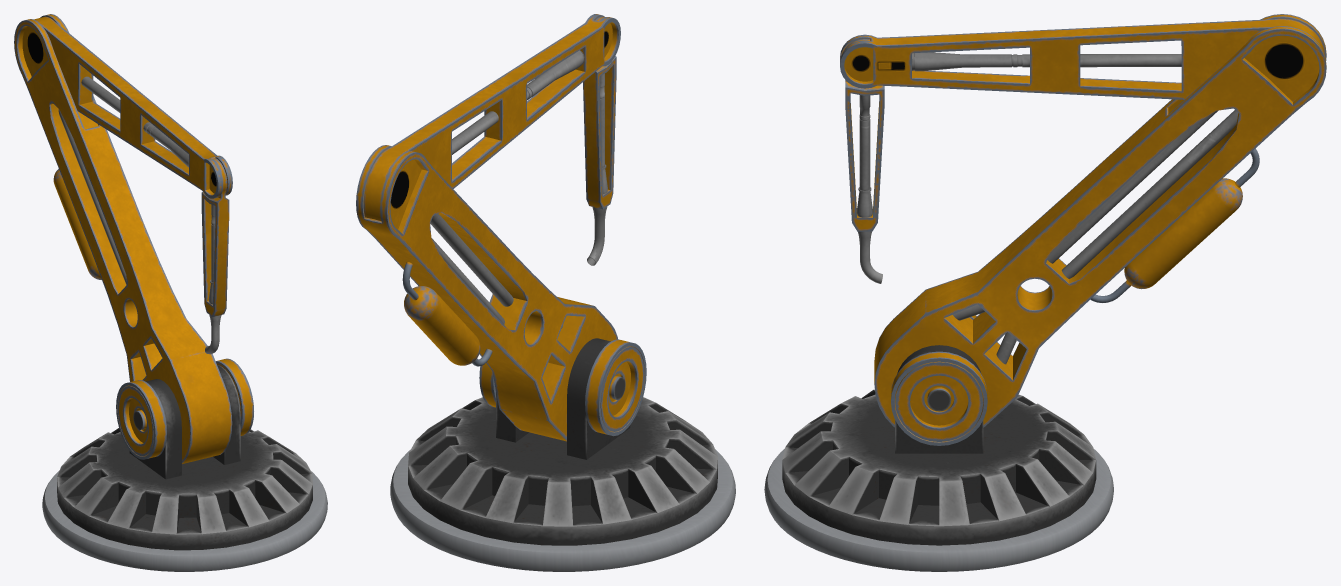
The model's file is factory_robot.glb.
3 views of the same model, side by side, from view 1: azimuth 30°, elevation 25°; view 2: azimuth 150°, elevation 25°; view 3: azimuth 270°, elevation 25° (orthographic). The views are drawn at different scales.
Parts seen in each view (by area): view 1: Circle.004_Circle.001_11, Circle.001_Circle.002_15, Circle.005_Circle.004_6, Circle_14, Circle.003_Circle.005_8, Circle.002_Circle.003_16, Circle.006_3, Sphere_10, Cylinder_5, Cylinder.001_9, Cylinder.006_2; view 2: Circle.001_Circle.002_15, Circle.004_Circle.001_11, Circle.005_Circle.004_6, Circle_14, Circle.003_Circle.005_8, Circle.006_3, Sphere_10, Circle.002_Circle.003_16, Cylinder.001_9, Cylinder_5, Cylinder.002_0, Cylinder.006_2; view 3: Circle.004_Circle.001_11, Circle.001_Circle.002_15, Circle.005_Circle.004_6, Circle_14, Circle.003_Circle.005_8, Cylinder.001_9, Sphere_10, Circle.006_3, Cylinder_5, Circle.002_Circle.003_16, Cylinder.006_2.
Boxes of the visible parts, x1=… form: Circle.004_Circle.001_11: x1=14, y1=14, x2=232, y2=463; Circle.001_Circle.002_15: x1=57, y1=428, x2=312, y2=550; Circle.005_Circle.004_6: x1=22, y1=16, x2=232, y2=198; Circle_14: x1=42, y1=470, x2=327, y2=571; Circle.003_Circle.005_8: x1=116, y1=358, x2=253, y2=459; Circle.002_Circle.003_16: x1=129, y1=365, x2=240, y2=479; Circle.006_3: x1=201, y1=158, x2=229, y2=316; Sphere_10: x1=53, y1=169, x2=101, y2=279; Cylinder_5: x1=81, y1=76, x2=188, y2=167; Cylinder.001_9: x1=58, y1=109, x2=127, y2=284; Cylinder.006_2: x1=208, y1=204, x2=215, y2=304; Circle.001_Circle.002_15: x1=408, y1=397, x2=717, y2=545; Circle.004_Circle.001_11: x1=356, y1=145, x2=617, y2=441; Circle.005_Circle.004_6: x1=363, y1=14, x2=620, y2=229; Circle_14: x1=390, y1=449, x2=735, y2=571; Circle.003_Circle.005_8: x1=479, y1=339, x2=646, y2=436; Circle.006_3: x1=583, y1=16, x2=616, y2=209; Sphere_10: x1=402, y1=262, x2=492, y2=366; Circle.002_Circle.003_16: x1=496, y1=338, x2=630, y2=459; Cylinder.001_9: x1=430, y1=214, x2=563, y2=328; Cylinder_5: x1=452, y1=50, x2=584, y2=154; Cylinder.002_0: x1=587, y1=207, x2=607, y2=265; Cylinder.006_2: x1=600, y1=73, x2=607, y2=194; Circle.004_Circle.001_11: x1=874, y1=14, x2=1326, y2=427; Circle.001_Circle.002_15: x1=782, y1=389, x2=1096, y2=545; Circle.005_Circle.004_6: x1=840, y1=19, x2=1324, y2=101; Circle_14: x1=764, y1=448, x2=1113, y2=571; Circle.003_Circle.005_8: x1=891, y1=315, x2=987, y2=445; Cylinder.001_9: x1=953, y1=110, x2=1238, y2=364; Sphere_10: x1=1090, y1=148, x2=1259, y2=302; Circle.006_3: x1=844, y1=39, x2=884, y2=231; Cylinder_5: x1=912, y1=52, x2=1181, y2=71; Circle.002_Circle.003_16: x1=895, y1=345, x2=983, y2=453; Cylinder.006_2: x1=856, y1=95, x2=872, y2=217.
Size of the model in its own units: 1.97 by 2.98 by 3.17.
1 material, 1 textured.
